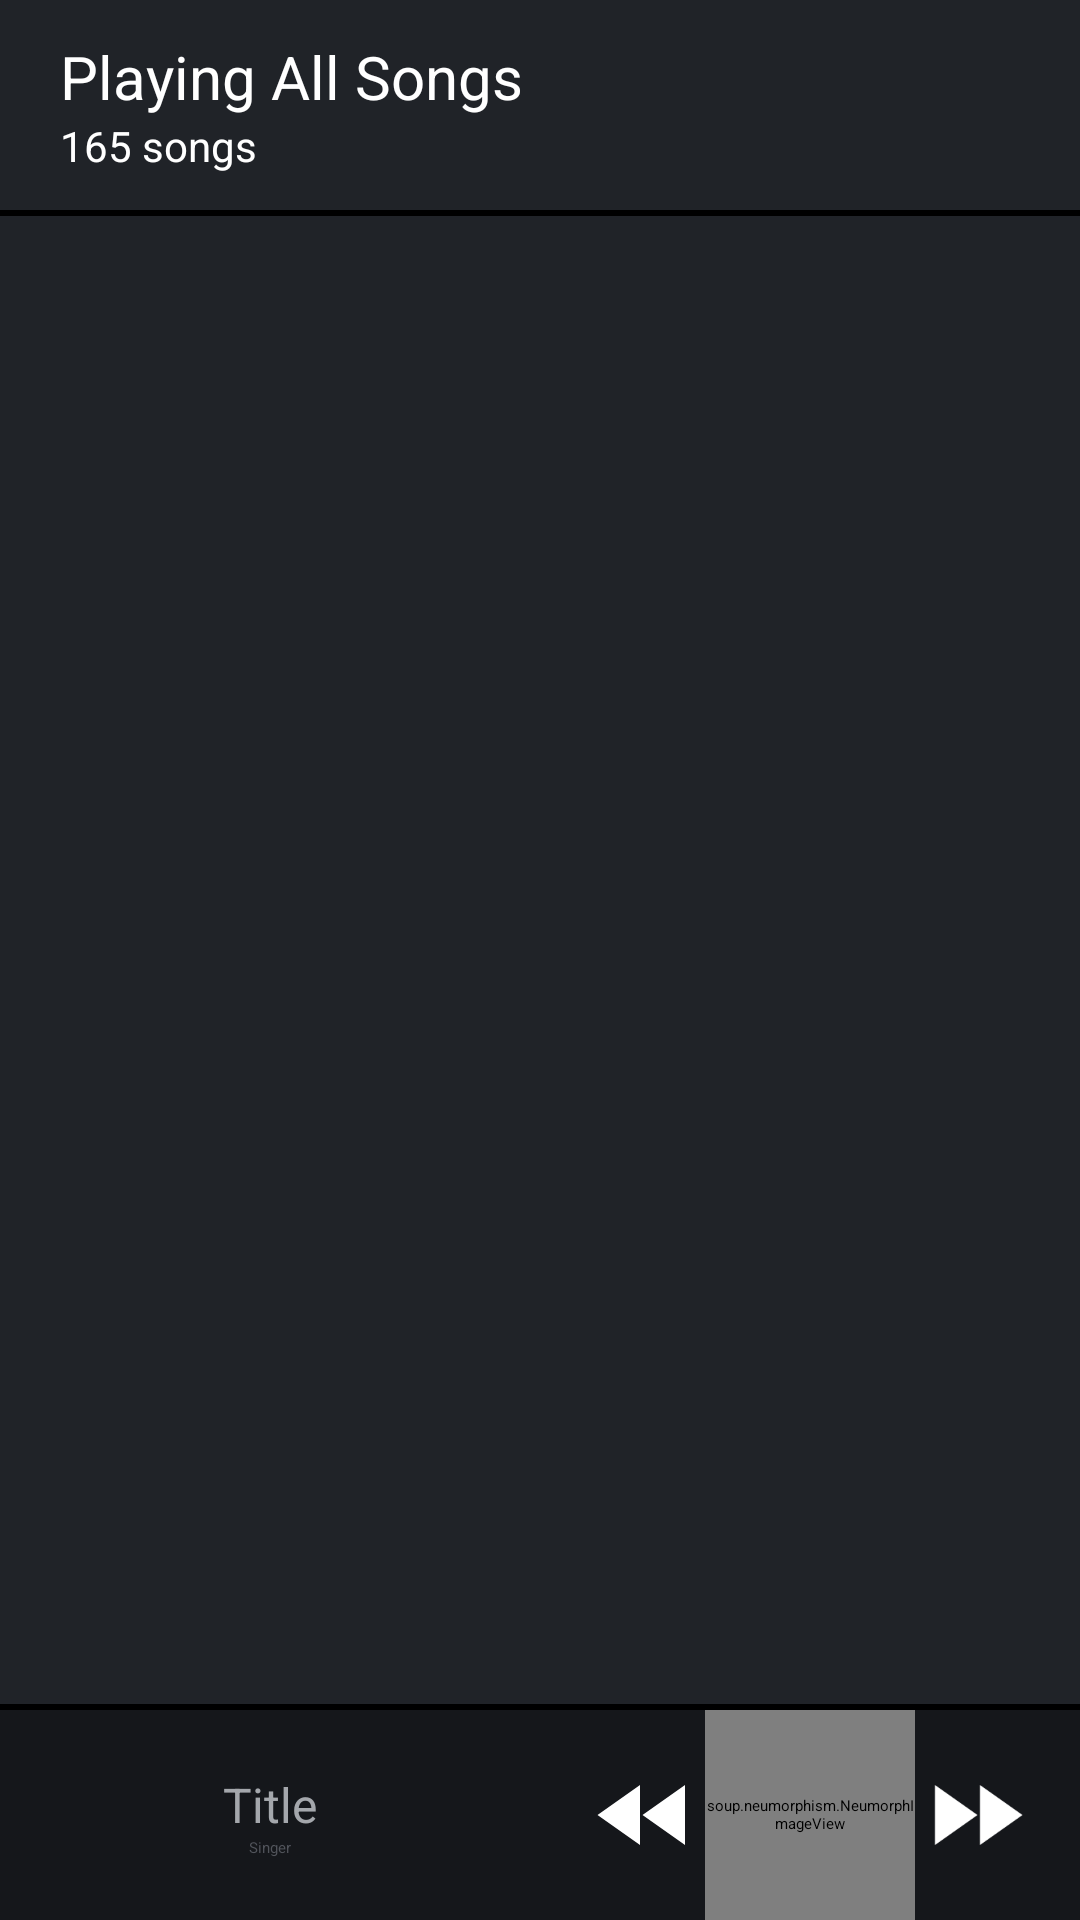

Icon click points for this 1080w x 1920h phone screenshot, format (x,y):
backward: (641,1815)
forward: (978,1815)
